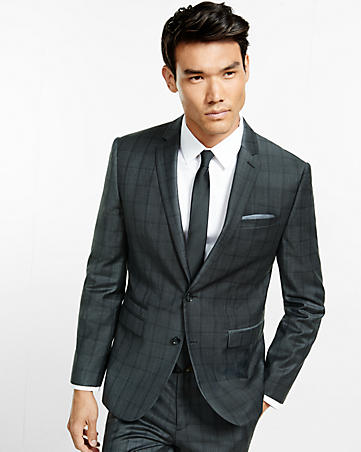suit: (59, 109, 340, 424)
